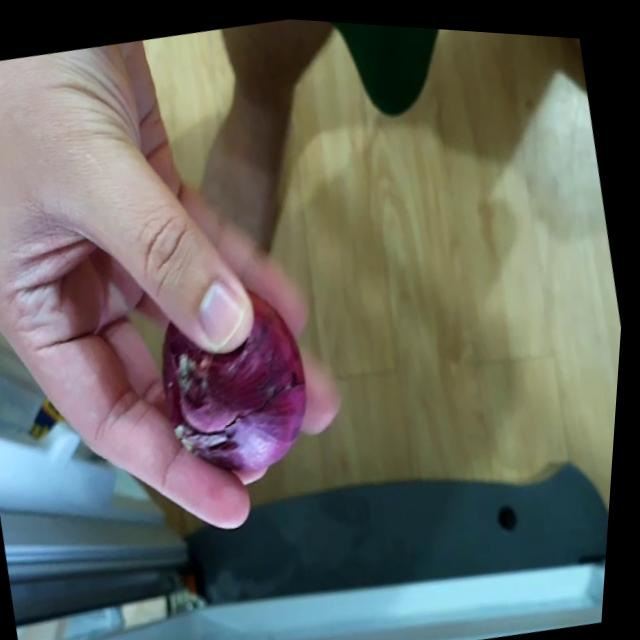onion: (137, 268, 332, 491)
